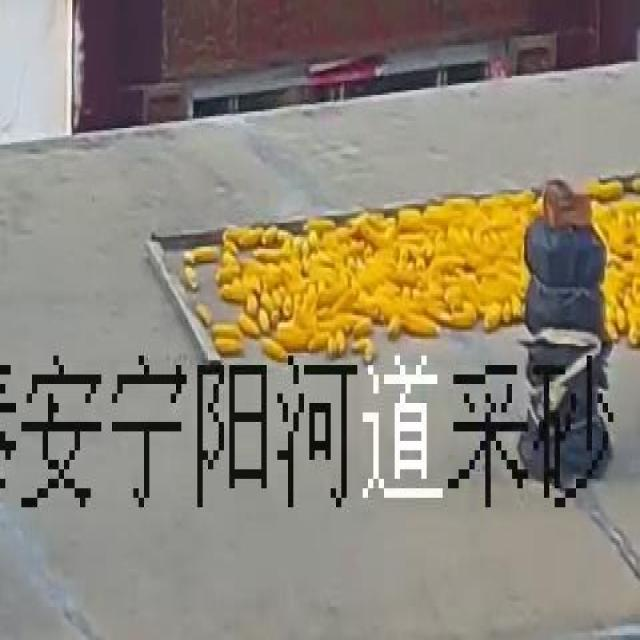other: (180, 178, 630, 356)
